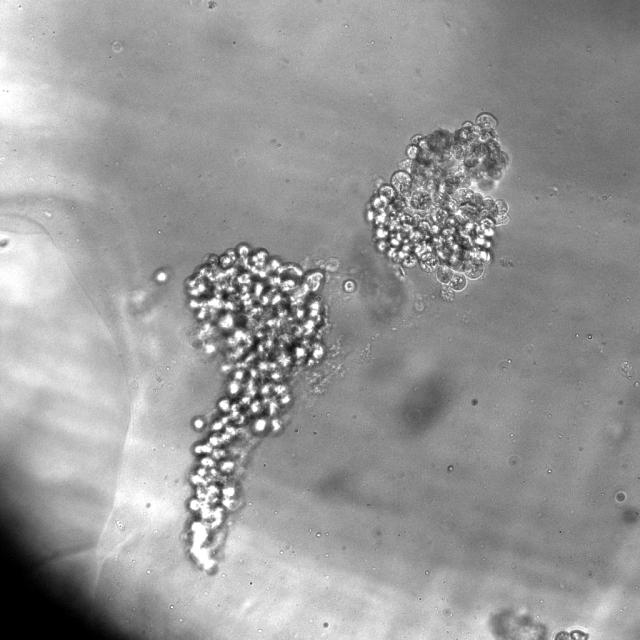organoid: (186, 244, 326, 572), (366, 112, 509, 300), (553, 628, 589, 639)
